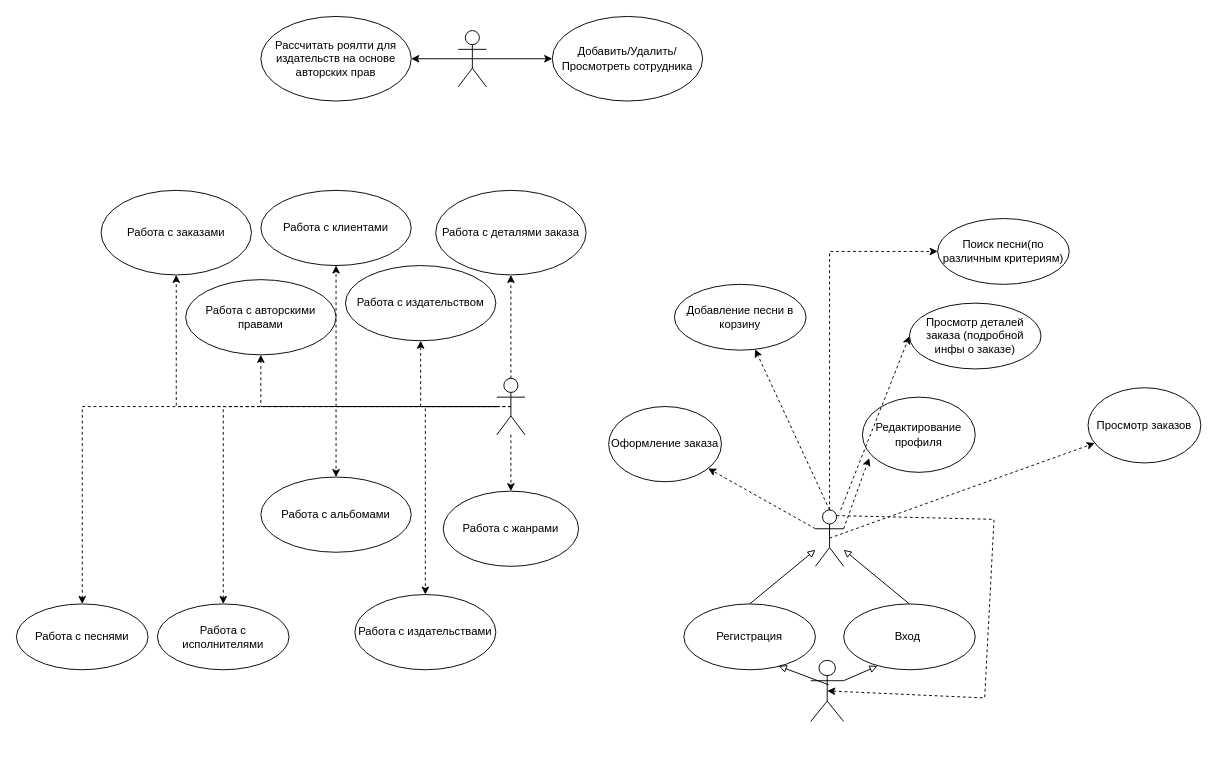
Image size: 1217x758. Some labels were removed from this diagram. The shapes that lost their labels are listed below. From the top down, each one's box as (x1, y1, x2, y2) in pixels, then its label:
(457, 30, 486, 87): Админ
(496, 377, 525, 435): Сотрудник
(815, 509, 844, 566): Зарегестрированный пользователь
(810, 659, 844, 721): Пользователь
